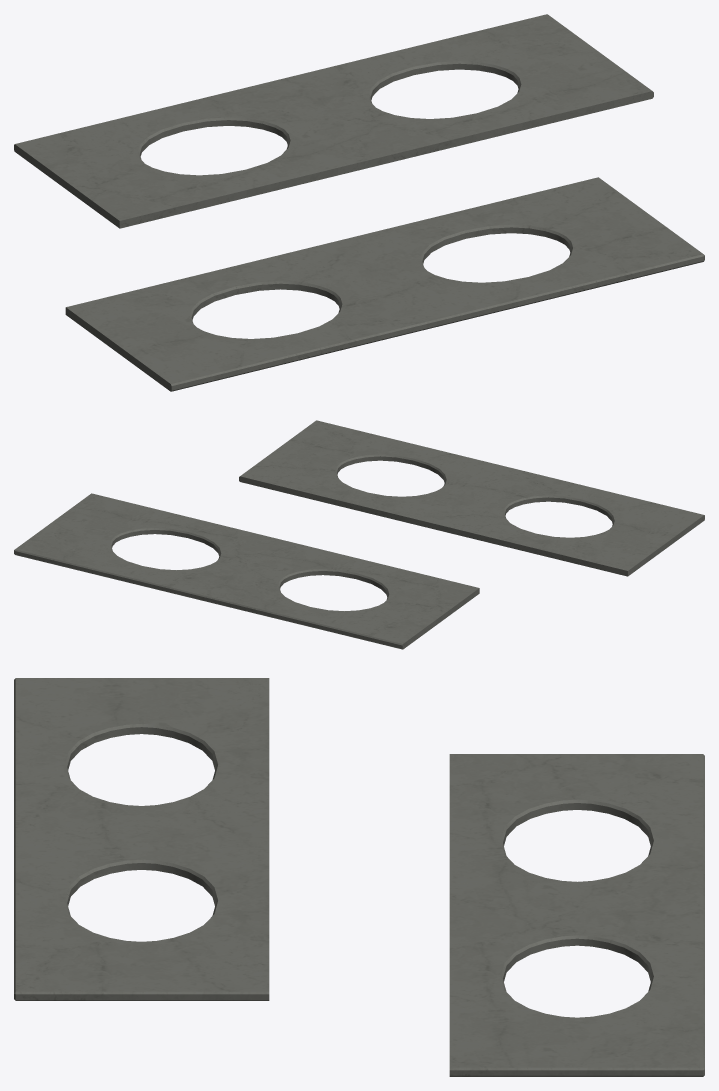
File: 2345_bathroom_CounterTops_QuartzExpoGray.gltf
3 renders of one model, top to bottom at view 1: azimuth 30°, elevation 25°; view 2: azimuth 150°, elevation 25°; view 3: azimuth 270°, elevation 25°, orthographic. The views are drawn at different scales.
Parts seen in each view (by area): view 1: Line23784; view 2: Line23784; view 3: Line23784.
Part boxes in pixels (x1,y1,x2,y2): Line23784: [14, 14, 704, 391]; Line23784: [14, 420, 704, 649]; Line23784: [14, 678, 704, 1076].
Bounding box in the file's own units: 3.6 × 0.04 × 2.7.
1 material, 1 textured.
